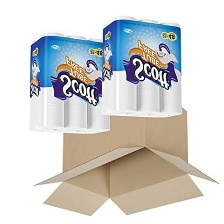book: (28, 104, 224, 224)
tissue: (94, 12, 187, 123), (24, 28, 116, 139)
